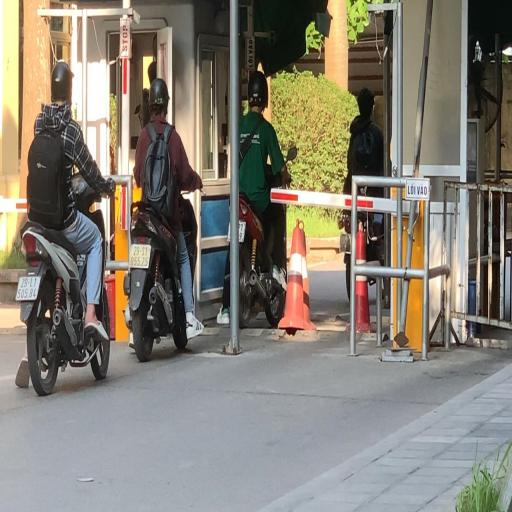bike: (14, 60, 116, 402), (128, 74, 204, 364), (238, 68, 289, 328), (337, 90, 386, 304)
numberplate: (17, 275, 40, 302), (129, 243, 151, 270)
with helmet: (50, 60, 72, 96), (249, 70, 267, 107), (150, 81, 170, 107)
